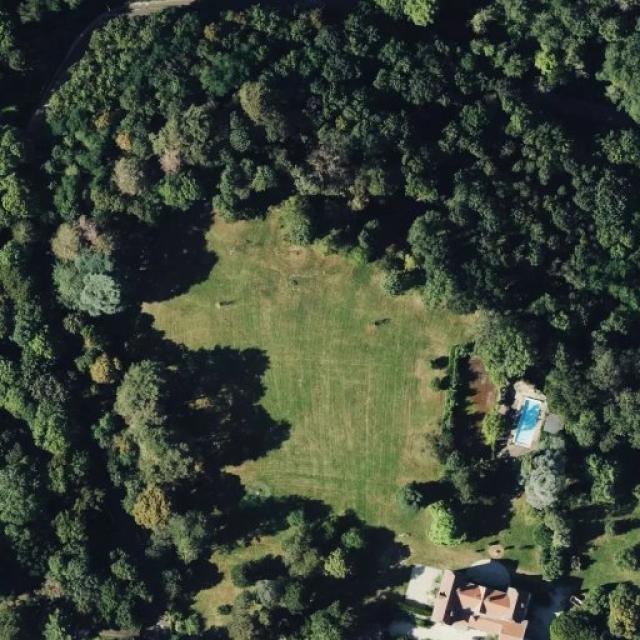piscine: (505, 383, 545, 458)
villa: (383, 512, 558, 640)
